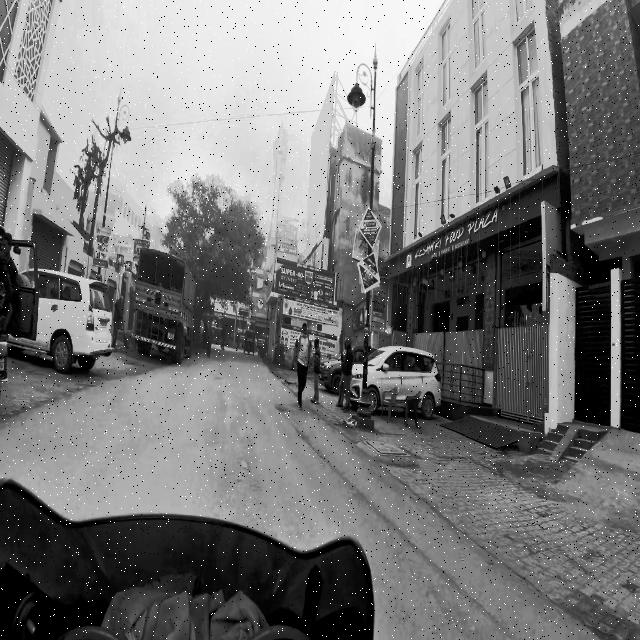Car: (15, 255, 111, 385), (347, 342, 450, 415)
HCV: (130, 245, 202, 375)
